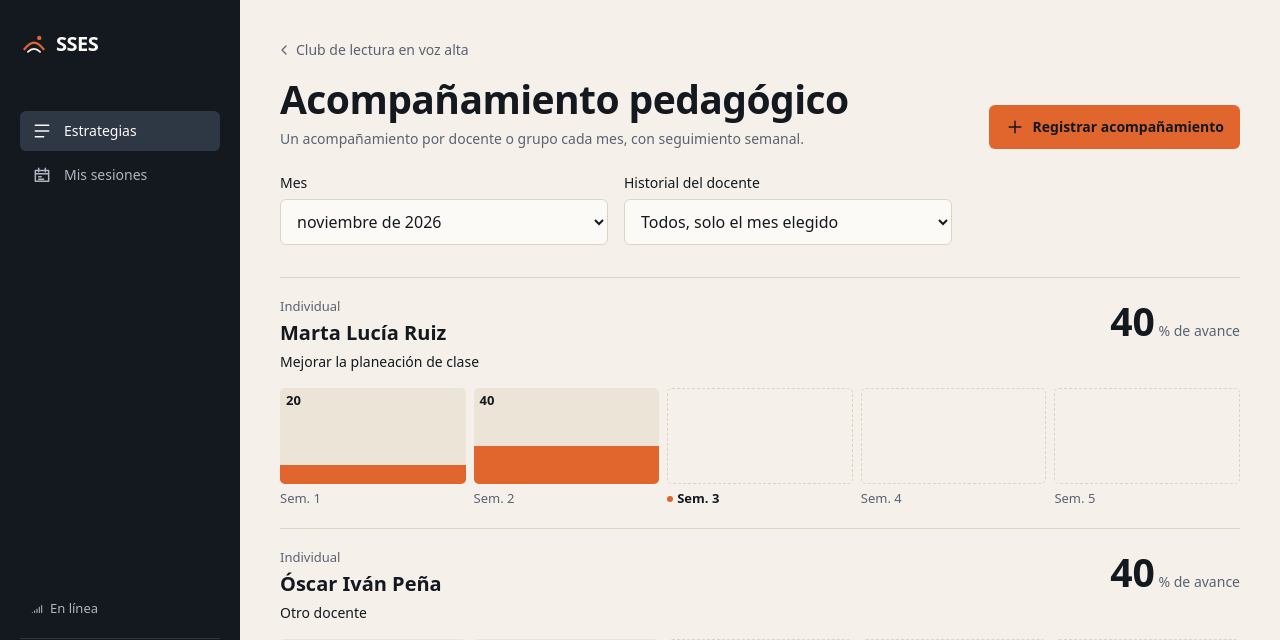
Test: Acompañamientos › HU-07: el filtro por docente muestra su historial de todos los meses
The width and height of the screenshot is (1280, 640).
Expected: the text "Mejorar la planeación de clase" is shown, [280,352,479,372]
Expected: the text "gestión de aula" is not shown
Select "Marta Lucía Ruiz" in the dropdown labelled "Historial del docente" at (788, 222), box [624,199,952,245]
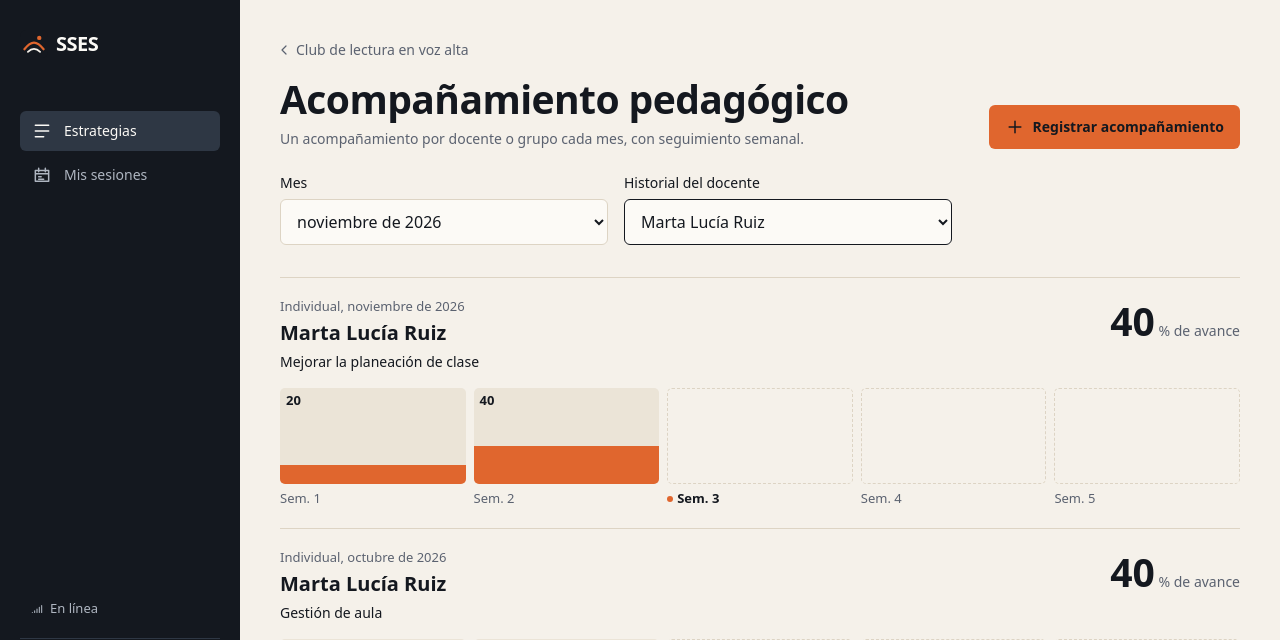
Now the text "Gestión de aula" is shown, box [280,603,382,622]
Now the text "Otro docente" is gone
